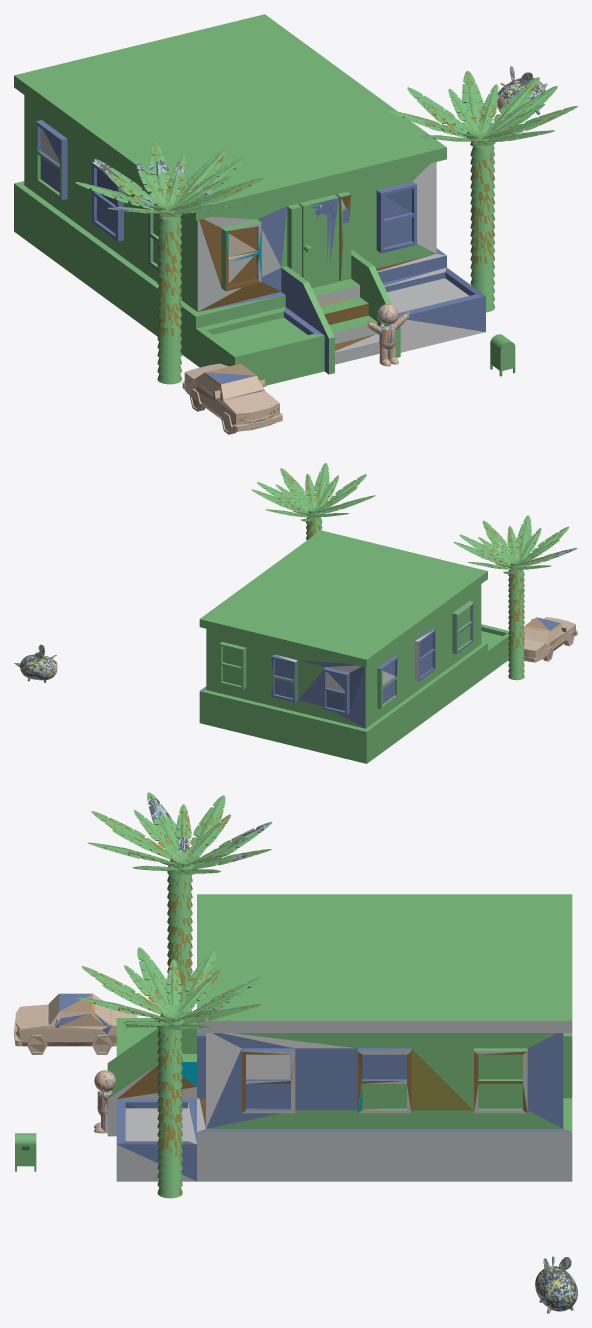
Rendered from Dazzling Wolt-Hillar.glb.
3 renders of one model, top to bottom at view 1: azimuth 30°, elevation 25°; view 2: azimuth 150°, elevation 25°; view 3: azimuth 270°, elevation 25°, orthographic. The views are drawn at different scales.
Visible parts, largest first — view 1: Mesh_Mesh_head_geo.001_lambert2SG.001; view 2: Mesh_Mesh_head_geo.001_lambert2SG.001; view 3: Mesh_Mesh_head_geo.001_lambert2SG.001.
Boxes of the visible parts, left/top/right/bottom form: Mesh_Mesh_head_geo.001_lambert2SG.001: left=14, top=14, right=577, bottom=434; Mesh_Mesh_head_geo.001_lambert2SG.001: left=14, top=463, right=577, bottom=763; Mesh_Mesh_head_geo.001_lambert2SG.001: left=14, top=792, right=577, bottom=1313.
Size of the model in its own units: 392 by 118 by 289.
